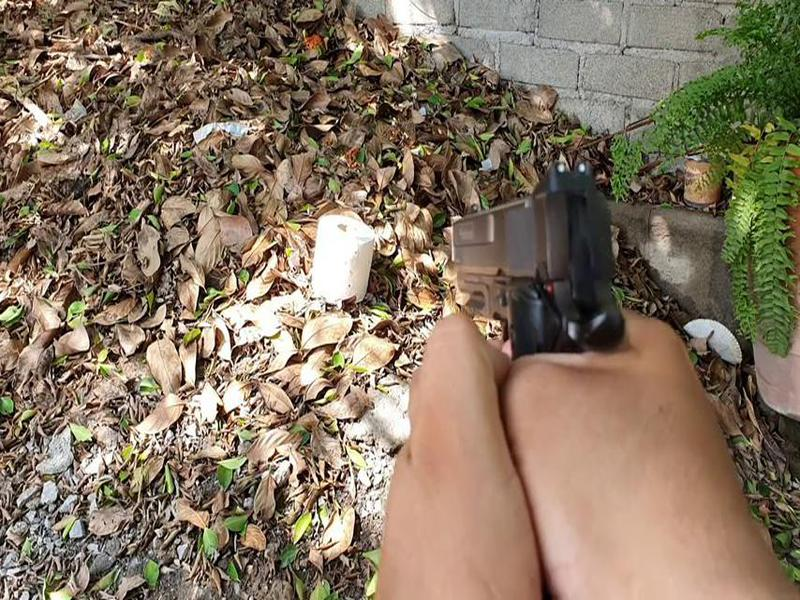Pistola: (421, 150, 658, 405)
